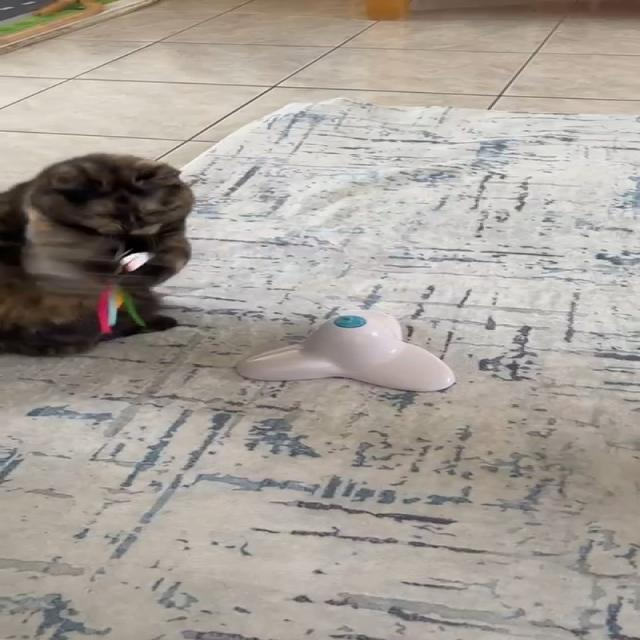authorized: (0, 152, 195, 356)
